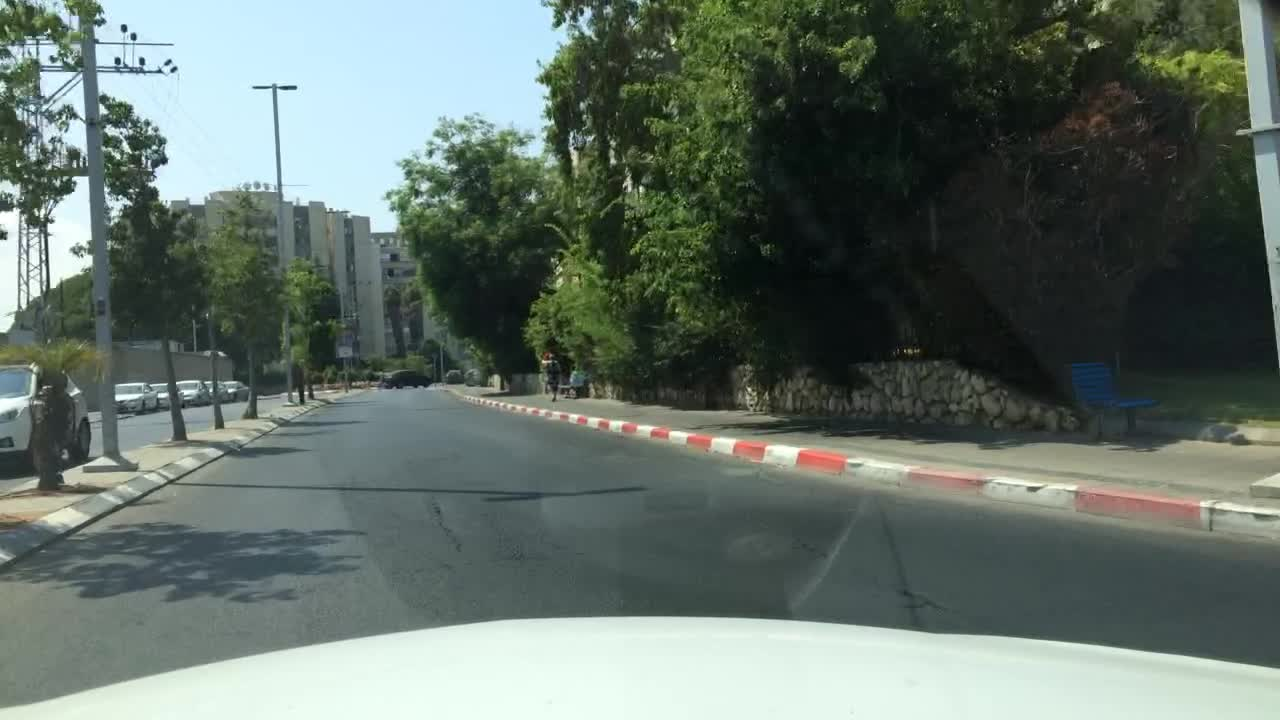car: (0, 361, 91, 476), (109, 381, 160, 415), (378, 368, 430, 390), (175, 380, 212, 408), (147, 381, 182, 408), (202, 380, 226, 403), (226, 381, 249, 401)
person: (540, 347, 562, 401), (567, 363, 590, 396)
traffic sign: (336, 344, 354, 358)
